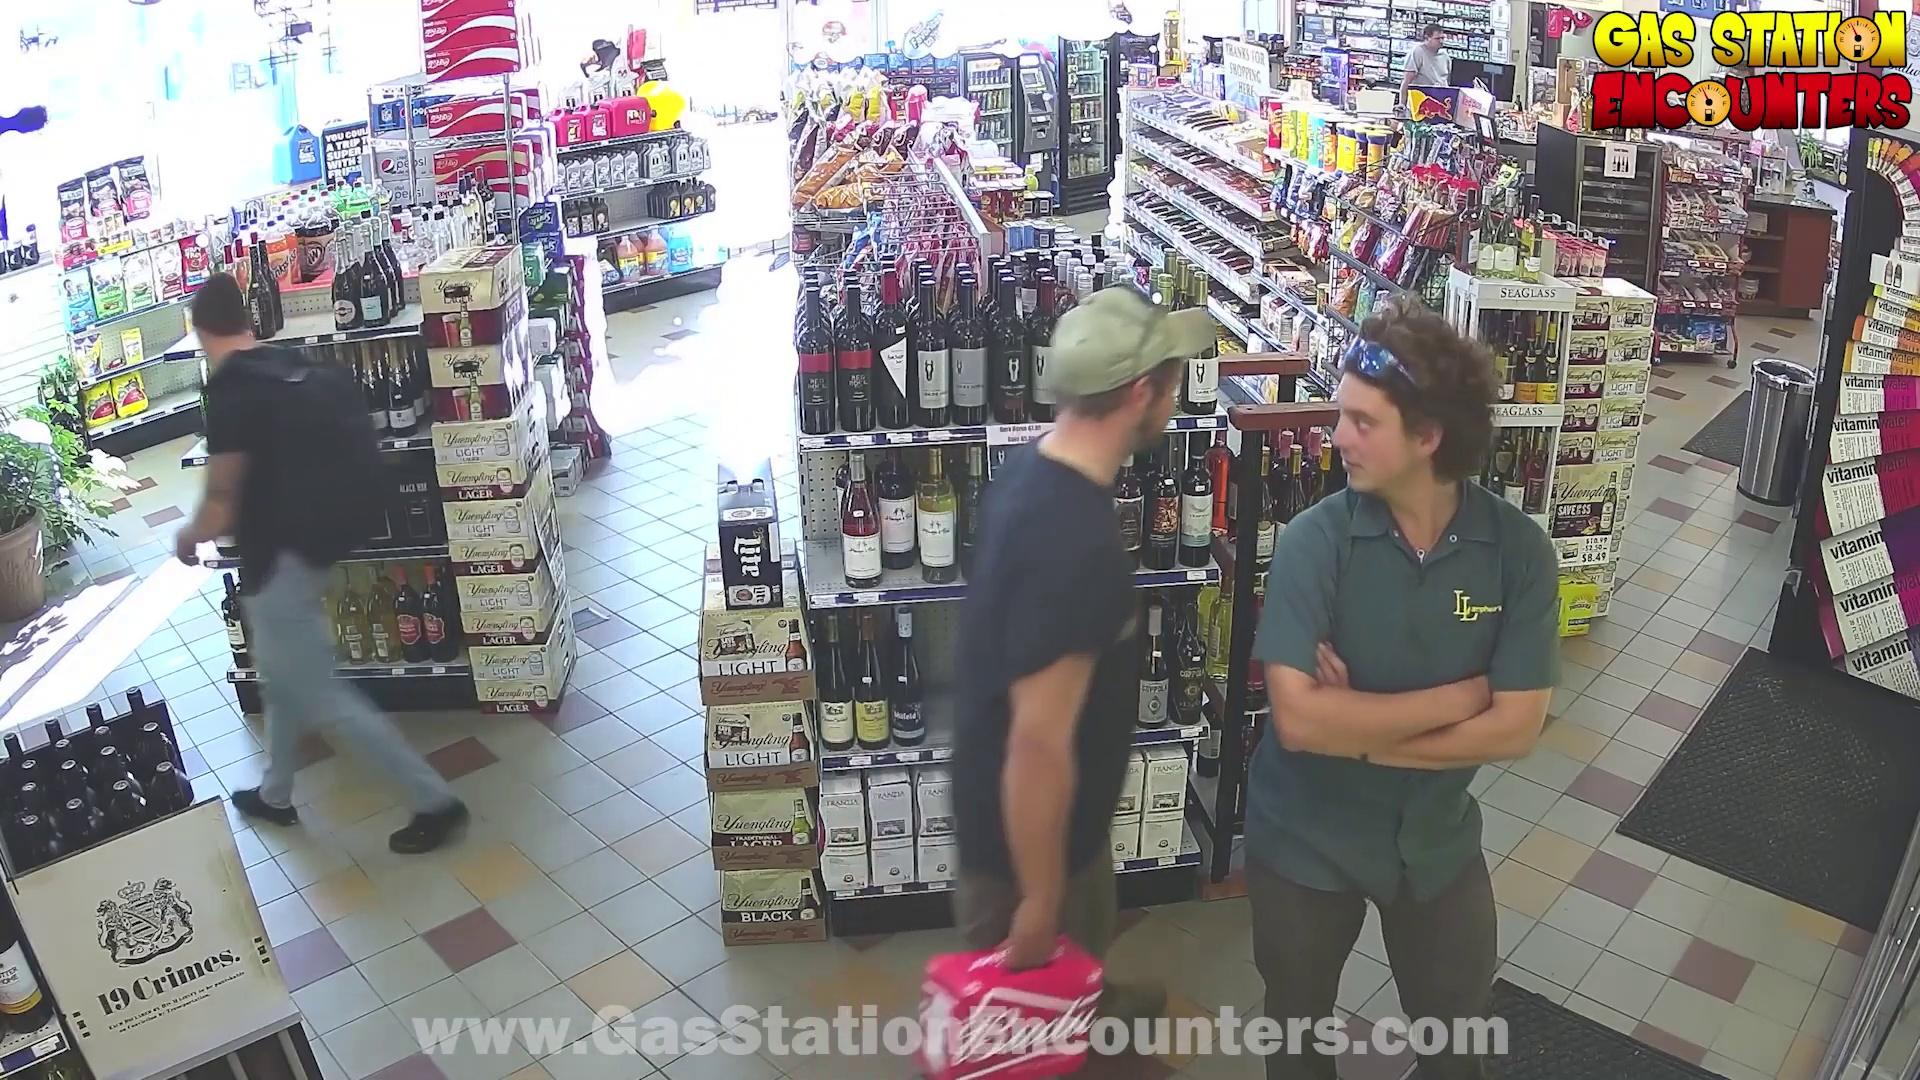Customer-Bagpack: (253, 344, 405, 551)
Product: (939, 953, 1129, 1077)
Product-Picked: (774, 287, 1185, 1080)
Regular: (1208, 299, 1643, 1080), (95, 216, 418, 869)
